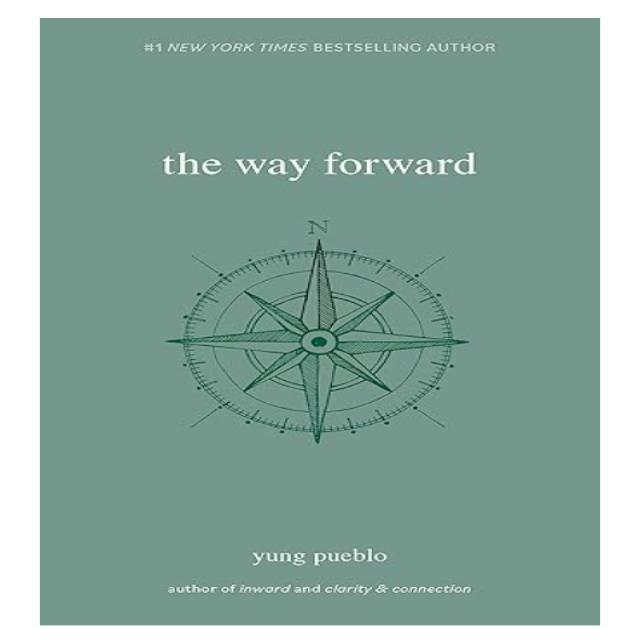titles-or-authors: (147, 144, 485, 186), (242, 544, 404, 568)
